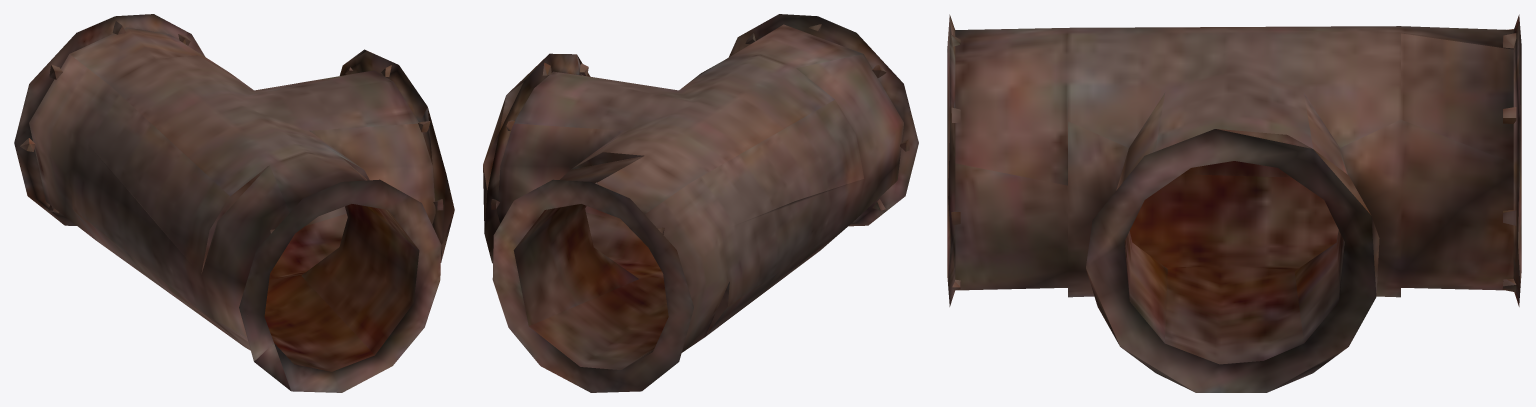
The model's file is rusty_pipe_10.glb.
3 renders of one model, left to right at view 1: azimuth 30°, elevation 25°; view 2: azimuth 150°, elevation 25°; view 3: azimuth 270°, elevation 25°, orthographic. The views are drawn at different scales.
Visible parts, largest first — view 1: rusty_pipe_10; view 2: rusty_pipe_10; view 3: rusty_pipe_10.
Part boxes in pixels (<box>): rusty_pipe_10: <box>14,14,454,392</box>; rusty_pipe_10: <box>483,14,918,392</box>; rusty_pipe_10: <box>947,14,1521,392</box>.
Size of what is drawn, in the model's own units: 0.0385 by 0.0288 by 0.0566.
1 material, 1 textured.
